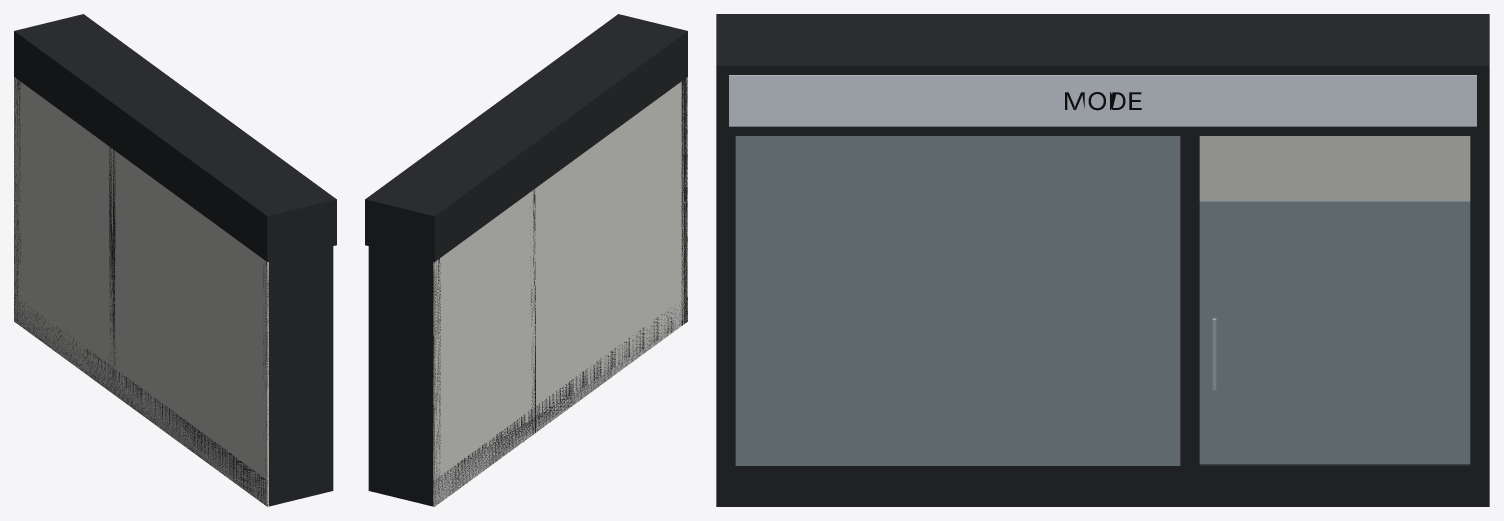
The model's file is storefront_c.glb.
3 views of the same model, side by side, from view 1: azimuth 30°, elevation 25°; view 2: azimuth 150°, elevation 25°; view 3: azimuth 270°, elevation 25° (orthographic). The views are drawn at different scales.
Visible parts, largest first — view 1: rueck, kasten, pfeiler-3.0, sockel, pfeiler0.6, pfeiler2.85; view 2: rueck, kasten, pfeiler2.85, sockel, pfeiler-3.0, pfeiler0.6; view 3: scheibe, tuer, kasten, leucht, sockel, rueck, pfeiler-3.0, pfeiler0.6, pfeiler2.85.
Part boxes in pixels (<box>): rueck: <box>14,77,268,506</box>; kasten: <box>14,14,336,261</box>; pfeiler-3.0: <box>263,246,333,506</box>; sockel: <box>14,298,332,506</box>; pfeiler0.6: <box>109,147,115,394</box>; pfeiler2.85: <box>14,79,20,323</box>; rueck: <box>433,77,687,506</box>; kasten: <box>365,14,687,261</box>; pfeiler2.85: <box>368,246,440,506</box>; sockel: <box>369,297,687,506</box>; pfeiler-3.0: <box>681,77,687,325</box>; pfeiler0.6: <box>530,189,535,434</box>; scheibe: <box>735,136,1180,465</box>; tuer: <box>1199,200,1470,464</box>; kasten: <box>716,14,1489,135</box>; leucht: <box>729,75,1476,126</box>; sockel: <box>716,464,1489,506</box>; rueck: <box>1199,136,1470,200</box>; pfeiler-3.0: <box>716,136,735,506</box>; pfeiler0.6: <box>1180,136,1199,506</box>; pfeiler2.85: <box>1470,136,1489,506</box>.
Bounding box in the file's own units: 0.956 × 3.8 × 6.
